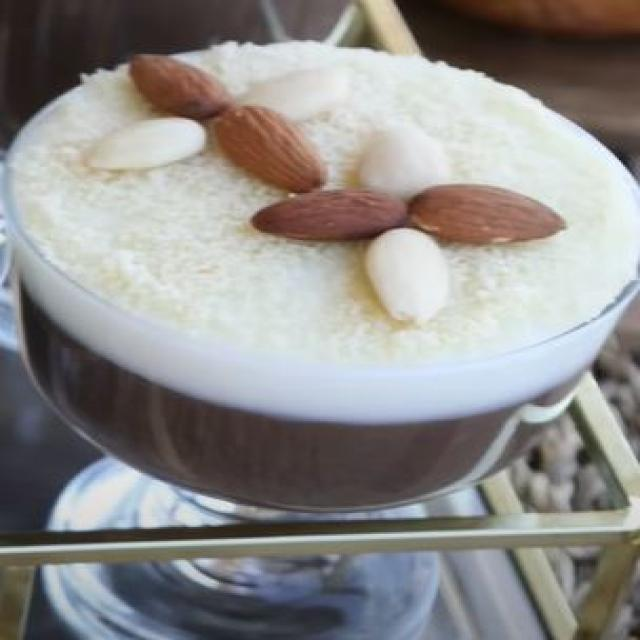asida-zkoukou: (0, 38, 640, 520)
